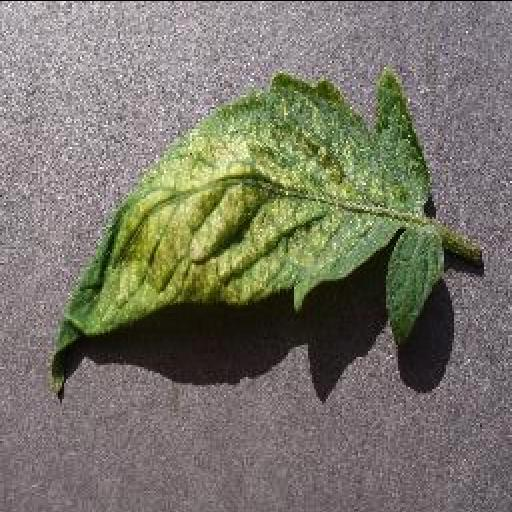disease_tomato: (46, 68, 440, 396)
